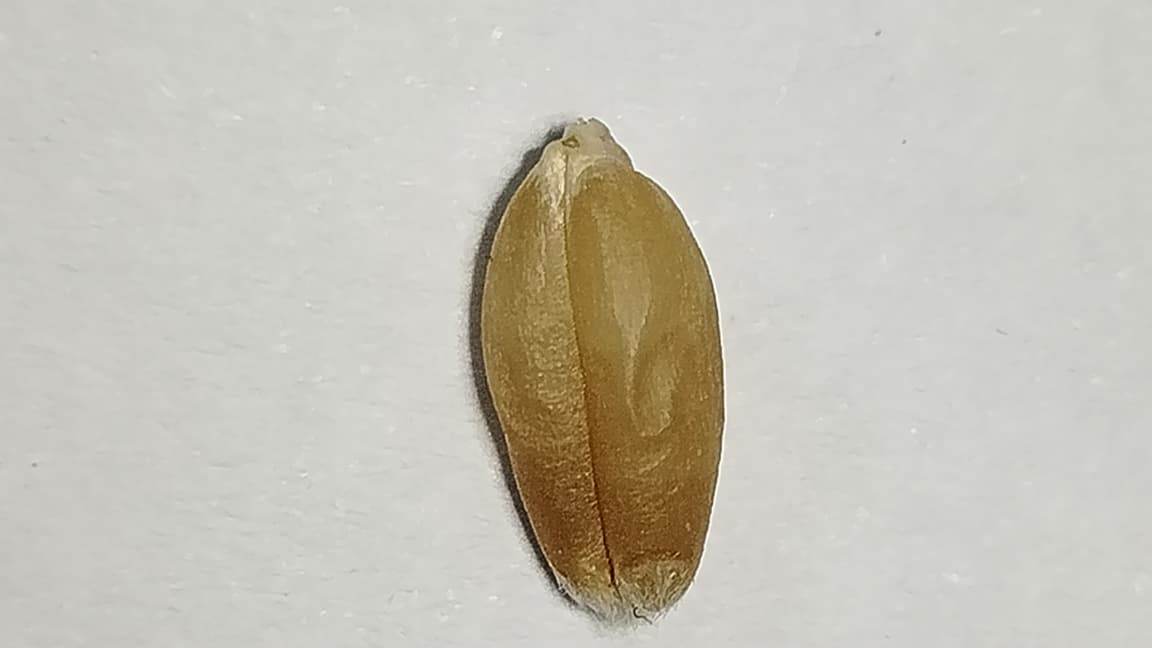healthy: (478, 121, 723, 616)
